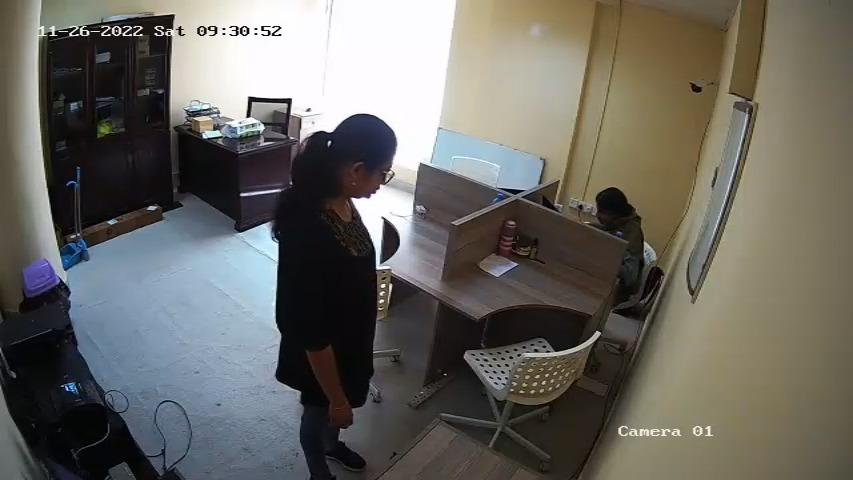no_apron: (317, 218, 372, 349)
